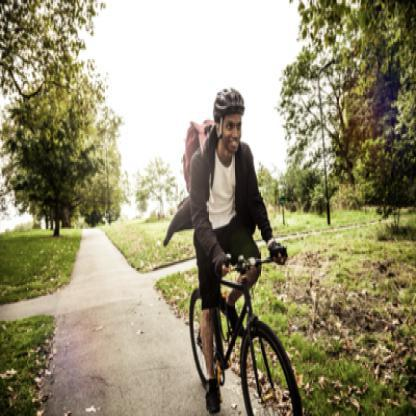Helmet: (214, 85, 244, 153)
